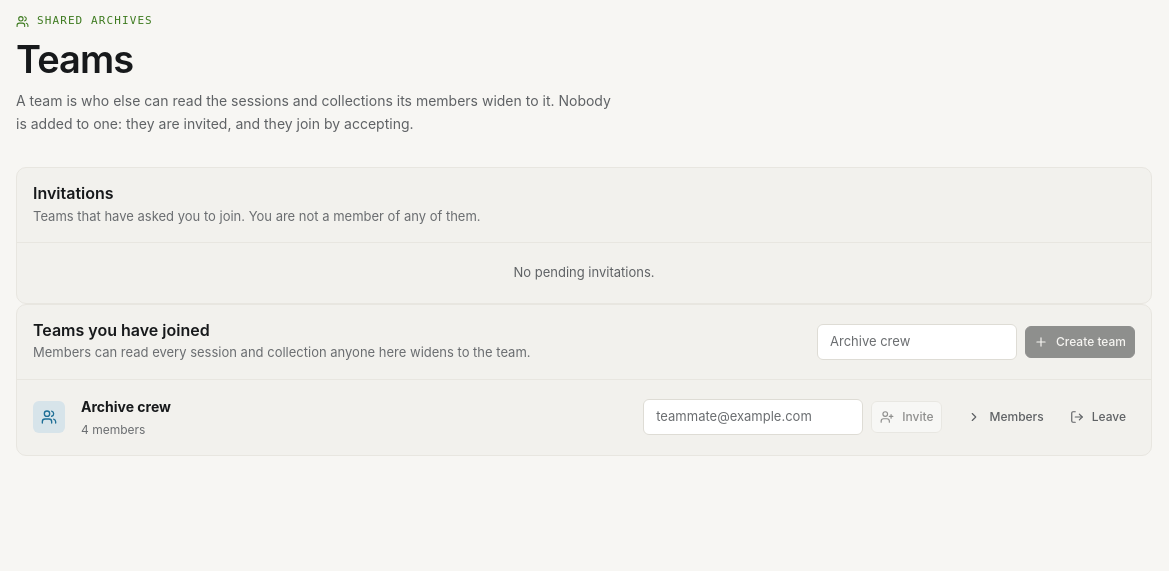
Test: teams › says so when an invitation is refused instead of failing silently
Type "nobody@example.test" into the field named "Email to invite to Archive crew".
click(753, 417); type("nobody@example.test")  # box [643,399,863,435]
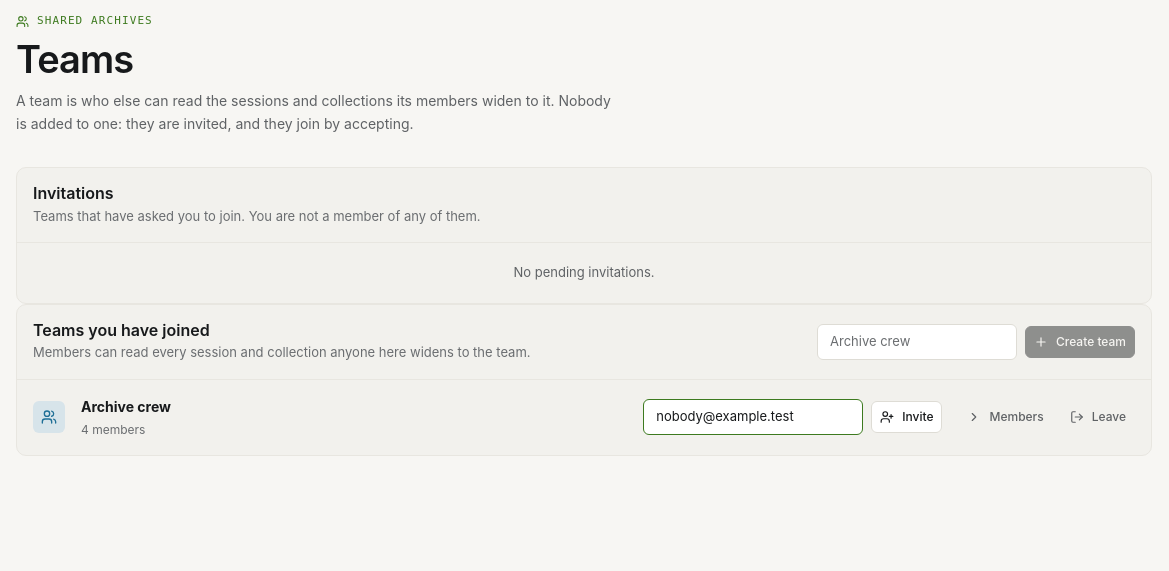
Click the button "Invite".
click(907, 417)  # box [871,401,942,433]
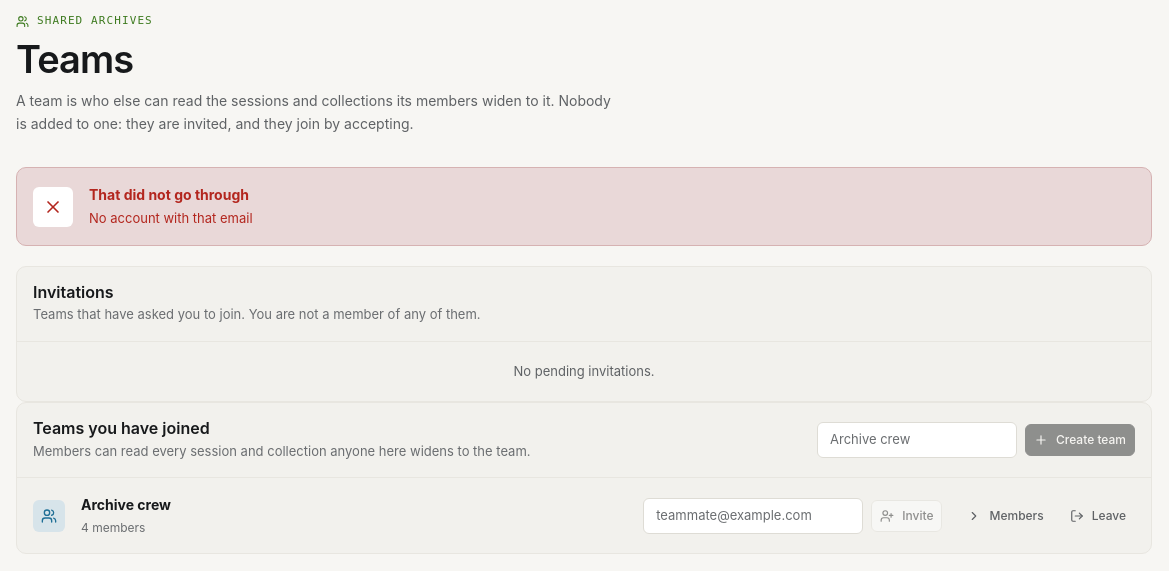
Check: the message shows "No account with that email", box [89,210,253,226]
